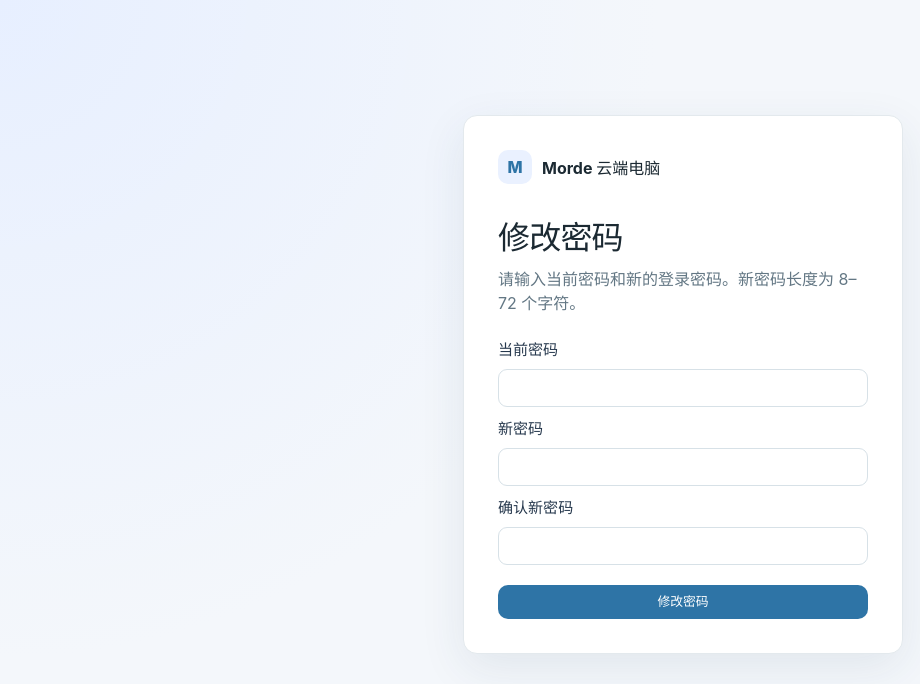
change password page › changes the password, then directs the administrator to log in again
Type "admin" into the password field labelled "当前密码".
click(683, 388); type("admin")  # box x1=498 y1=368 x2=868 y2=406
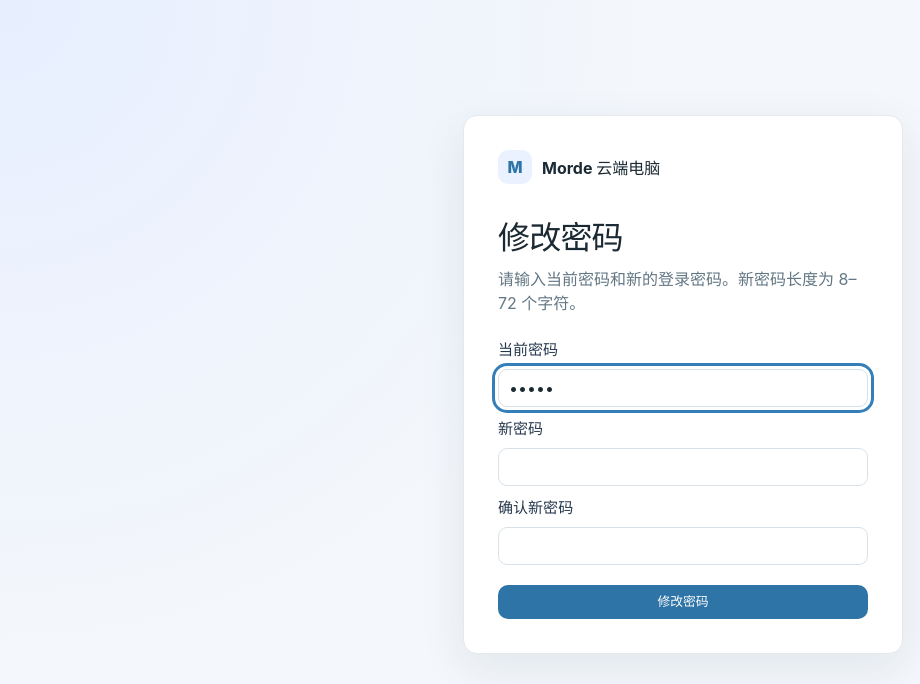
Type "new-password-1" into the password field labelled "新密码".
click(683, 466); type("new-password-1")  # box x1=498 y1=448 x2=868 y2=486
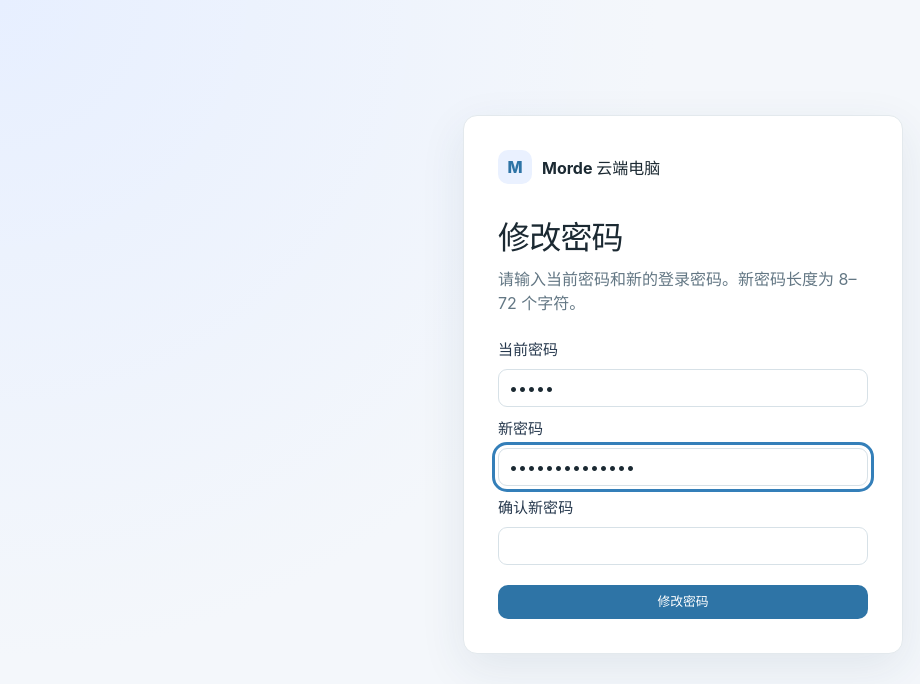
Type "new-password-1" into the password field labelled "确认新密码".
click(683, 546); type("new-password-1")  # box x1=498 y1=526 x2=868 y2=564
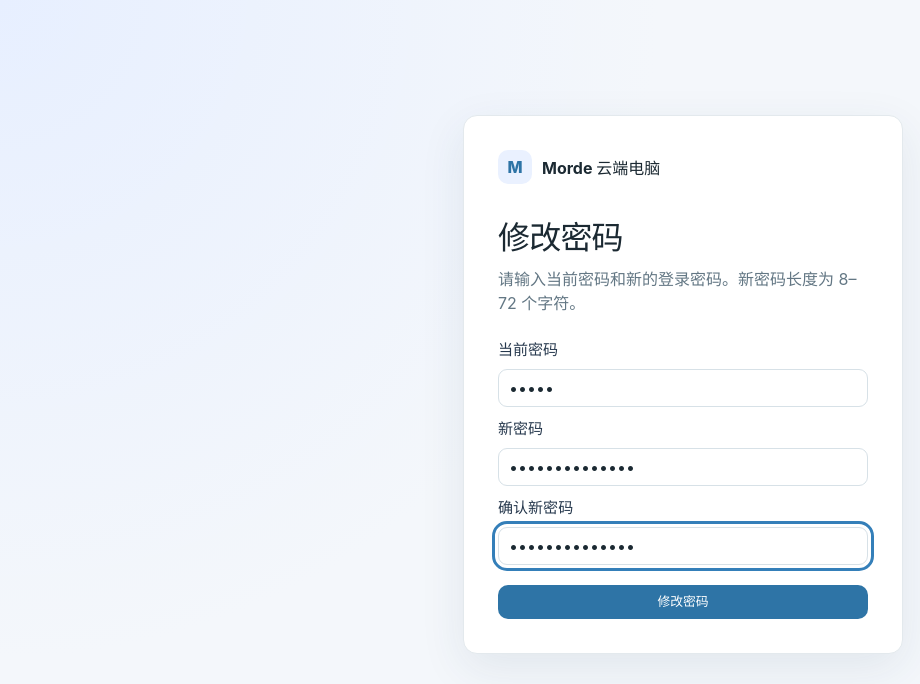
Click the button "修改密码".
click(683, 602)  # box x1=498 y1=584 x2=868 y2=618
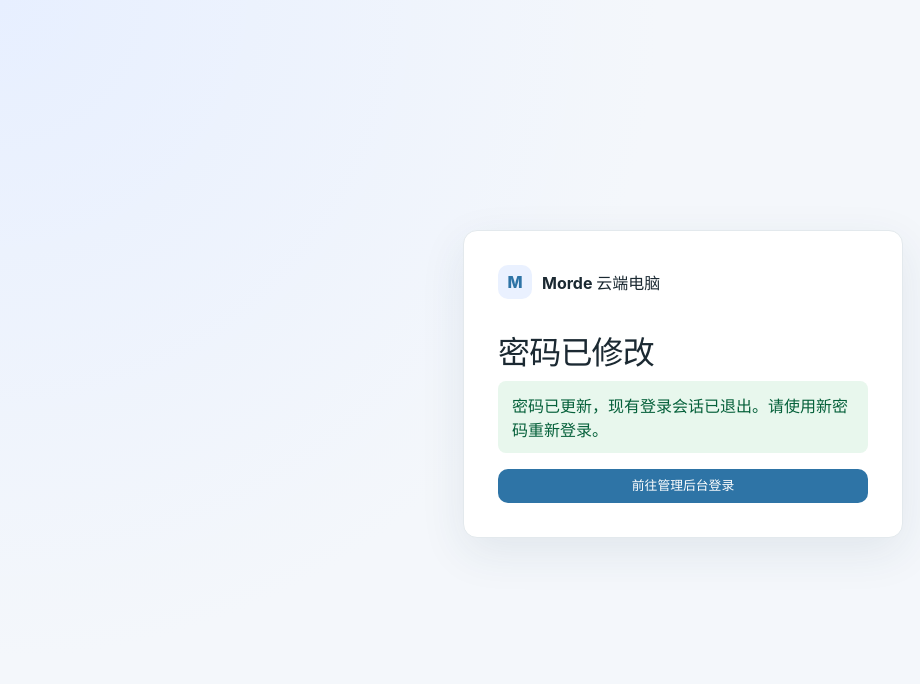
Check: the heading "密码已修改" is shown, box x1=498 y1=333 x2=654 y2=372
